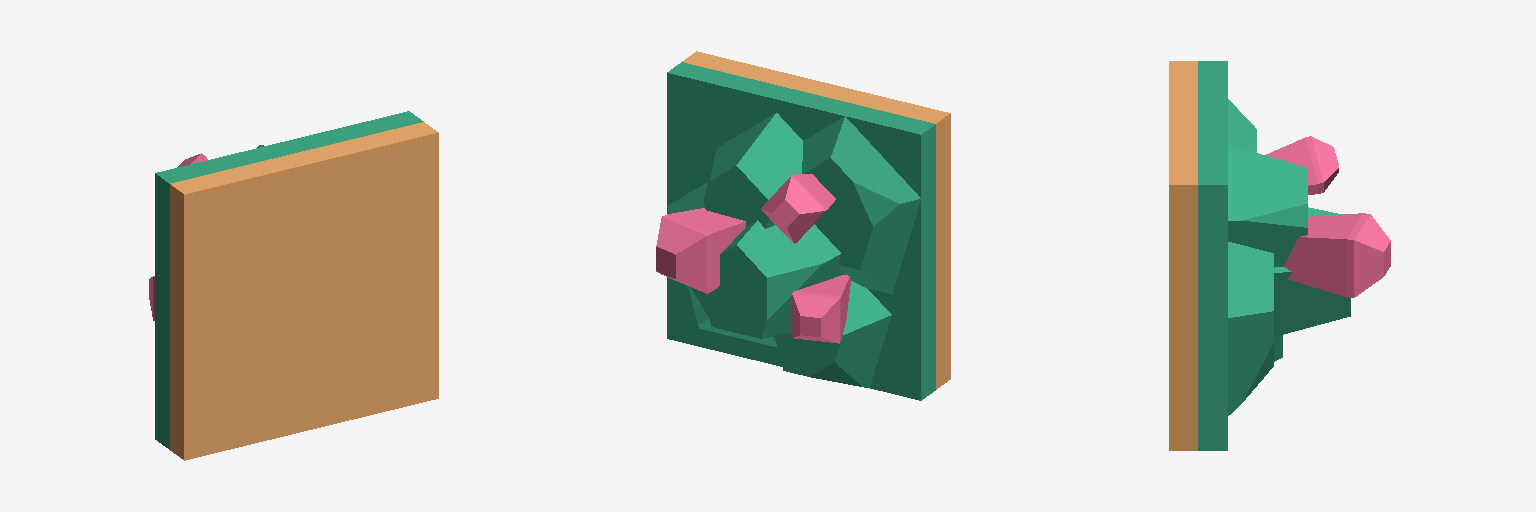
The model's file is tile_crystal.001.obj.
3 views of the same model, side by side, from view 1: azimuth 30°, elevation 25°; view 2: azimuth 150°, elevation 25°; view 3: azimuth 270°, elevation 25° (orthographic).
Visible parts, largest first — view 1: tile_crystal.003; view 2: tile_crystal.003; view 3: tile_crystal.003.
Boxes of the visible parts, x1,y1,x2,y2 form: tile_crystal.003: [149, 111, 438, 460]; tile_crystal.003: [656, 51, 950, 400]; tile_crystal.003: [1169, 61, 1390, 450].
Bounding box in the file's own units: 1 × 1 × 0.7565.